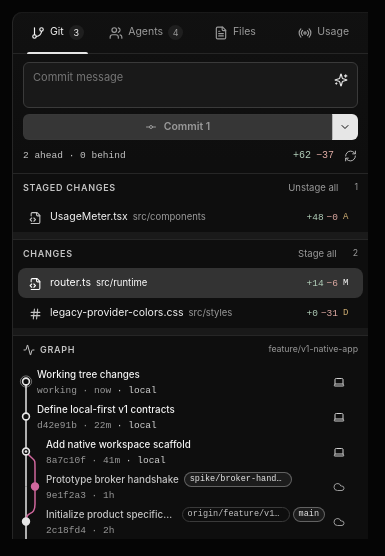
Test: RightRail › collapses the active folder immediately while the selection pill fades in place
What coordinates should you click on to do the following:
click the tab "Files"
I would click on:
 (235, 32)
Its box is [190, 12, 279, 53].
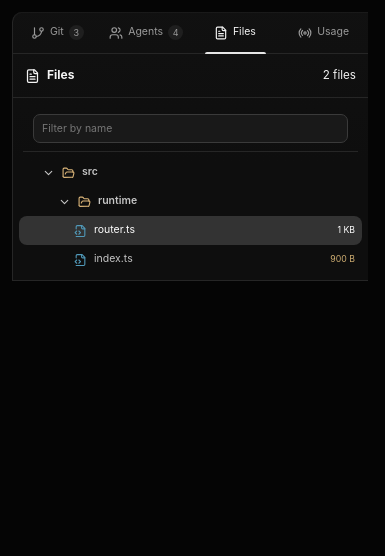
Now the element with class "file-tree-active" is shown, box [19, 216, 362, 245]
What coordinates should you click on to do the following:
click the button with aria-label "Collapse folder src/runtime"
I would click on:
 (118, 201)
Its box is [19, 187, 362, 216].
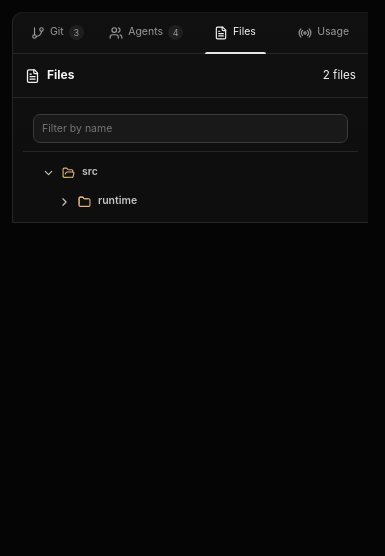
Now the button with aria-label "Expand folder src/runtime" is shown
Now the element with class "file-tree-active" is gone
What coordinates should you click on to do the following:
click the button with aria-label "Expand folder src/runtime"
I would click on:
 (118, 201)
Its box is [19, 187, 362, 216].
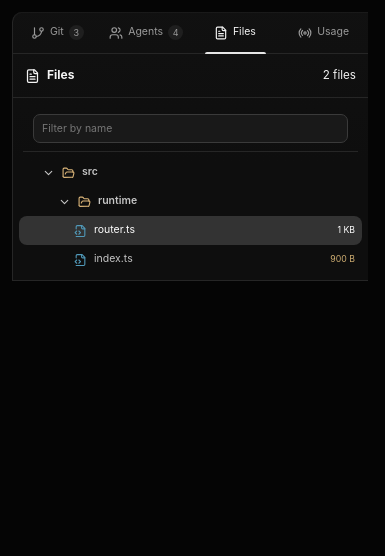
Now the element with class "file-tree-active" is shown, box [19, 216, 362, 245]
